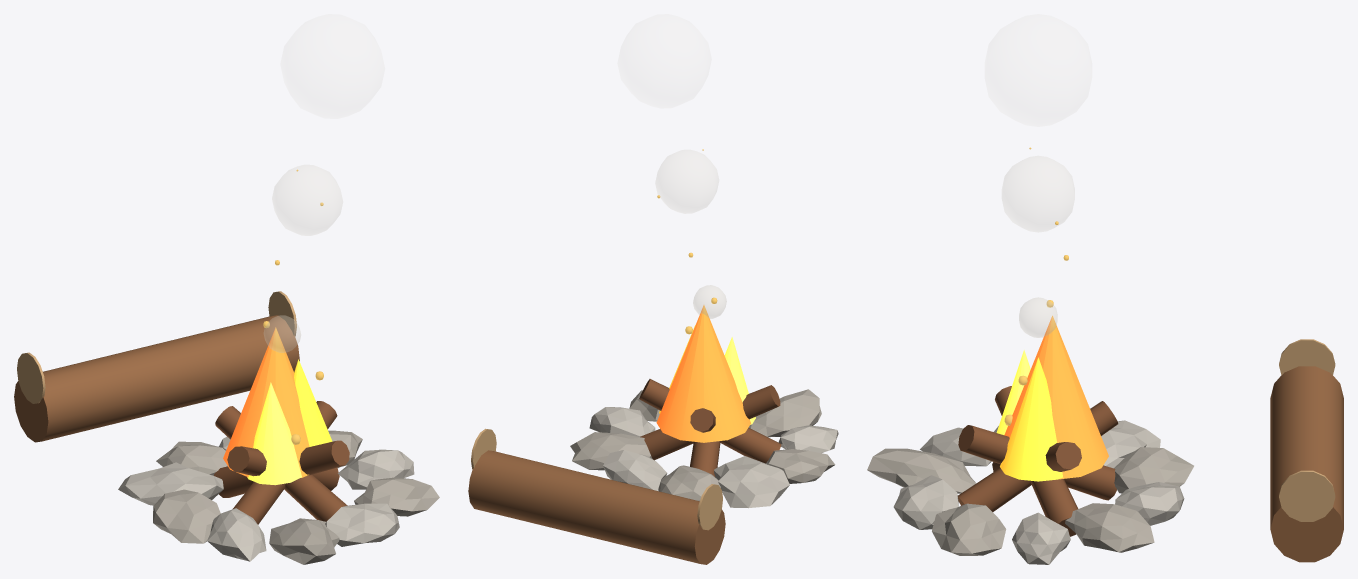
The model's file is campfire.glb.
3 views of the same model, side by side, from view 1: azimuth 30°, elevation 25°; view 2: azimuth 150°, elevation 25°; view 3: azimuth 270°, elevation 25° (orthographic). The views are drawn at different scales.
Bounding box in the file's own units: 1.13 × 2.02 × 1.69.
